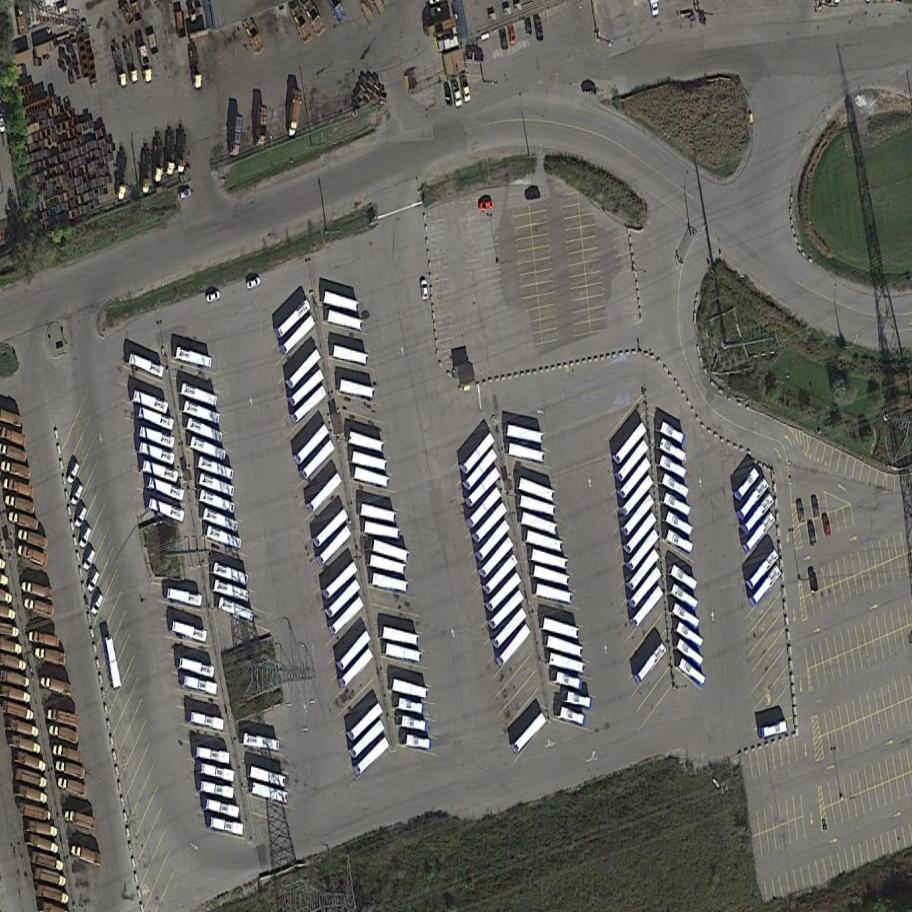large-vehicle: (479, 552, 523, 598), (468, 501, 512, 547), (507, 711, 551, 757), (481, 570, 525, 615), (321, 577, 365, 622), (459, 447, 501, 494), (609, 421, 651, 468), (615, 454, 656, 502), (287, 384, 331, 428), (318, 559, 362, 603), (460, 466, 504, 510), (281, 348, 324, 393), (290, 423, 333, 468), (471, 519, 514, 564), (462, 486, 505, 531), (493, 623, 535, 669), (276, 314, 319, 358), (296, 439, 339, 483), (308, 507, 352, 550), (271, 298, 315, 341), (474, 536, 517, 580), (743, 547, 784, 593), (612, 439, 653, 485), (304, 471, 347, 514), (325, 595, 368, 638), (284, 367, 328, 409), (313, 524, 355, 568), (489, 606, 531, 650), (620, 511, 660, 557), (623, 528, 663, 574), (739, 510, 778, 557), (632, 639, 671, 686), (485, 589, 527, 632), (333, 630, 374, 674), (459, 431, 499, 476), (624, 547, 664, 592), (618, 494, 658, 539), (617, 474, 657, 519), (347, 718, 388, 761), (734, 478, 773, 523), (628, 585, 667, 630), (739, 493, 777, 538), (346, 701, 386, 743), (748, 564, 786, 608), (628, 566, 666, 610), (672, 652, 712, 692), (337, 647, 376, 688), (353, 736, 393, 775), (145, 474, 189, 505), (196, 487, 241, 517), (215, 593, 258, 624), (203, 522, 247, 552), (183, 415, 227, 445), (665, 580, 703, 614), (544, 650, 590, 678), (145, 495, 189, 524), (344, 429, 389, 457), (731, 465, 763, 504), (200, 505, 243, 534), (196, 471, 239, 500), (319, 289, 363, 317), (188, 434, 230, 463), (179, 381, 221, 410), (653, 436, 692, 467), (673, 636, 708, 670), (322, 307, 366, 334), (671, 619, 708, 651), (137, 438, 179, 466), (181, 399, 223, 427), (531, 581, 576, 607), (347, 448, 390, 475), (515, 476, 558, 503), (176, 655, 219, 682), (196, 453, 237, 481), (659, 509, 696, 540), (656, 470, 693, 501), (542, 634, 586, 660), (529, 563, 573, 589), (527, 546, 571, 572), (522, 530, 566, 556), (517, 511, 561, 537), (387, 678, 431, 704), (103, 634, 123, 691), (666, 562, 702, 593), (141, 457, 182, 484), (131, 389, 172, 416), (126, 352, 167, 379), (658, 491, 696, 520), (211, 560, 253, 586), (136, 405, 178, 431), (668, 601, 703, 632), (350, 465, 393, 490), (368, 539, 411, 564), (212, 578, 253, 604), (137, 424, 178, 450), (329, 344, 371, 369), (164, 584, 206, 609), (169, 619, 211, 644), (249, 780, 291, 805), (200, 795, 242, 820), (655, 453, 691, 482), (360, 519, 403, 543), (365, 553, 408, 577), (539, 616, 582, 640), (505, 441, 548, 465), (515, 494, 558, 518), (368, 571, 411, 595), (381, 641, 424, 665), (652, 420, 689, 447), (357, 502, 399, 525), (248, 765, 288, 789), (663, 528, 697, 556), (174, 346, 215, 369), (380, 625, 421, 648), (553, 704, 590, 729), (336, 378, 376, 401), (180, 674, 220, 697), (548, 668, 586, 692), (241, 731, 282, 753), (286, 86, 303, 138), (505, 423, 545, 445), (206, 816, 246, 838), (197, 779, 237, 800), (198, 762, 237, 783), (188, 711, 227, 732), (560, 689, 595, 712), (195, 745, 232, 765), (392, 697, 428, 717), (399, 732, 435, 752), (254, 103, 269, 149), (758, 720, 790, 741), (395, 714, 430, 733), (229, 112, 242, 158)
small-vehicle: (27, 847, 67, 875), (61, 804, 100, 832), (14, 780, 52, 808), (31, 642, 70, 669), (6, 730, 46, 756), (45, 719, 83, 746), (38, 672, 77, 698), (17, 799, 55, 825), (11, 749, 49, 775), (0, 475, 38, 501), (25, 830, 62, 856), (6, 507, 43, 533), (15, 542, 51, 568), (68, 841, 105, 866), (34, 882, 71, 907), (2, 490, 39, 515), (13, 766, 51, 790), (20, 578, 57, 602), (15, 527, 52, 551), (1, 698, 37, 722), (46, 705, 82, 729), (33, 865, 69, 889), (20, 594, 56, 618), (50, 742, 87, 765), (6, 717, 41, 741), (51, 758, 89, 780), (55, 774, 91, 797), (0, 459, 34, 483), (75, 520, 99, 552), (27, 627, 62, 648), (26, 819, 60, 840), (0, 684, 32, 705), (0, 669, 32, 689), (72, 501, 93, 530), (63, 458, 84, 486), (67, 480, 88, 508), (88, 589, 108, 618), (80, 544, 98, 573), (84, 566, 102, 594), (532, 11, 546, 44), (450, 77, 463, 109), (459, 74, 472, 104), (244, 274, 264, 291), (506, 18, 518, 46), (203, 289, 223, 305), (796, 499, 807, 527), (176, 186, 195, 202), (498, 24, 509, 51), (443, 81, 453, 109), (523, 12, 534, 37), (807, 521, 817, 546), (821, 515, 832, 537), (808, 570, 818, 593), (582, 81, 598, 95), (419, 279, 429, 301), (811, 495, 820, 518), (478, 198, 495, 210), (524, 188, 541, 200), (466, 51, 484, 62)
